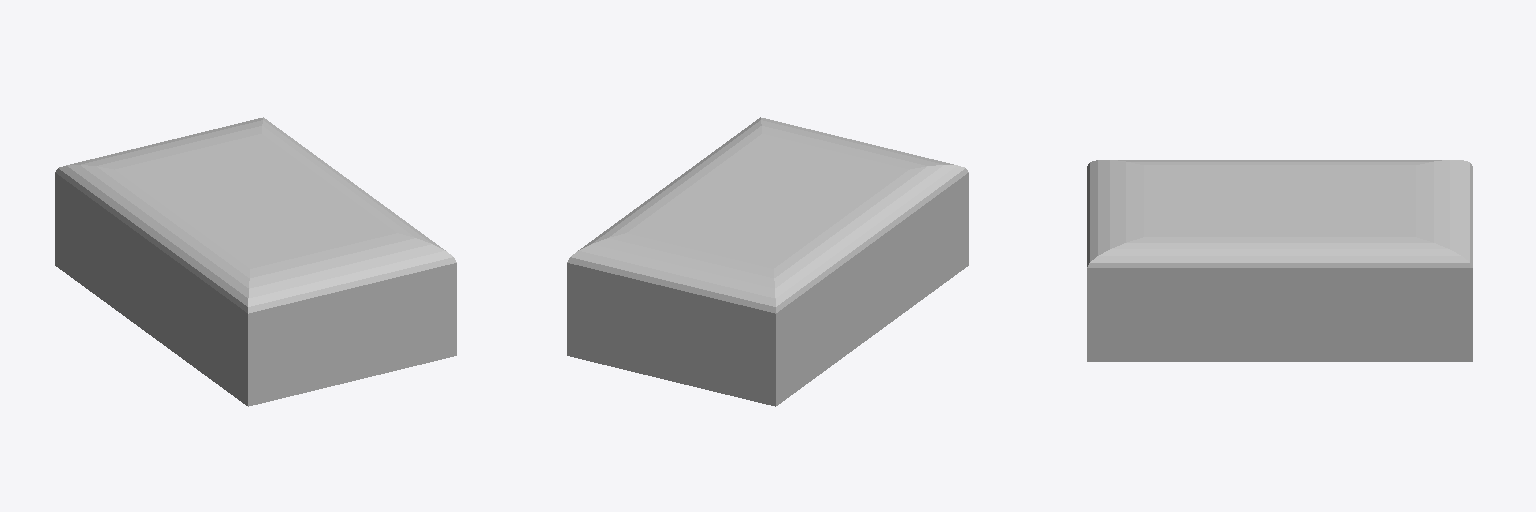
File: JST CheckButton.obj
3 renders of one model, left to right at view 1: azimuth 30°, elevation 25°; view 2: azimuth 150°, elevation 25°; view 3: azimuth 270°, elevation 25°, orthographic.
Visible parts, largest first — view 1: Cube; view 2: Cube; view 3: Cube.
Boxes of the visible parts, x1=… form: Cube: x1=55, y1=117, x2=456, y2=406; Cube: x1=567, y1=117, x2=968, y2=406; Cube: x1=1087, y1=160, x2=1472, y2=361.
Bounding box in the file's own units: 1 × 0.5 × 1.6.